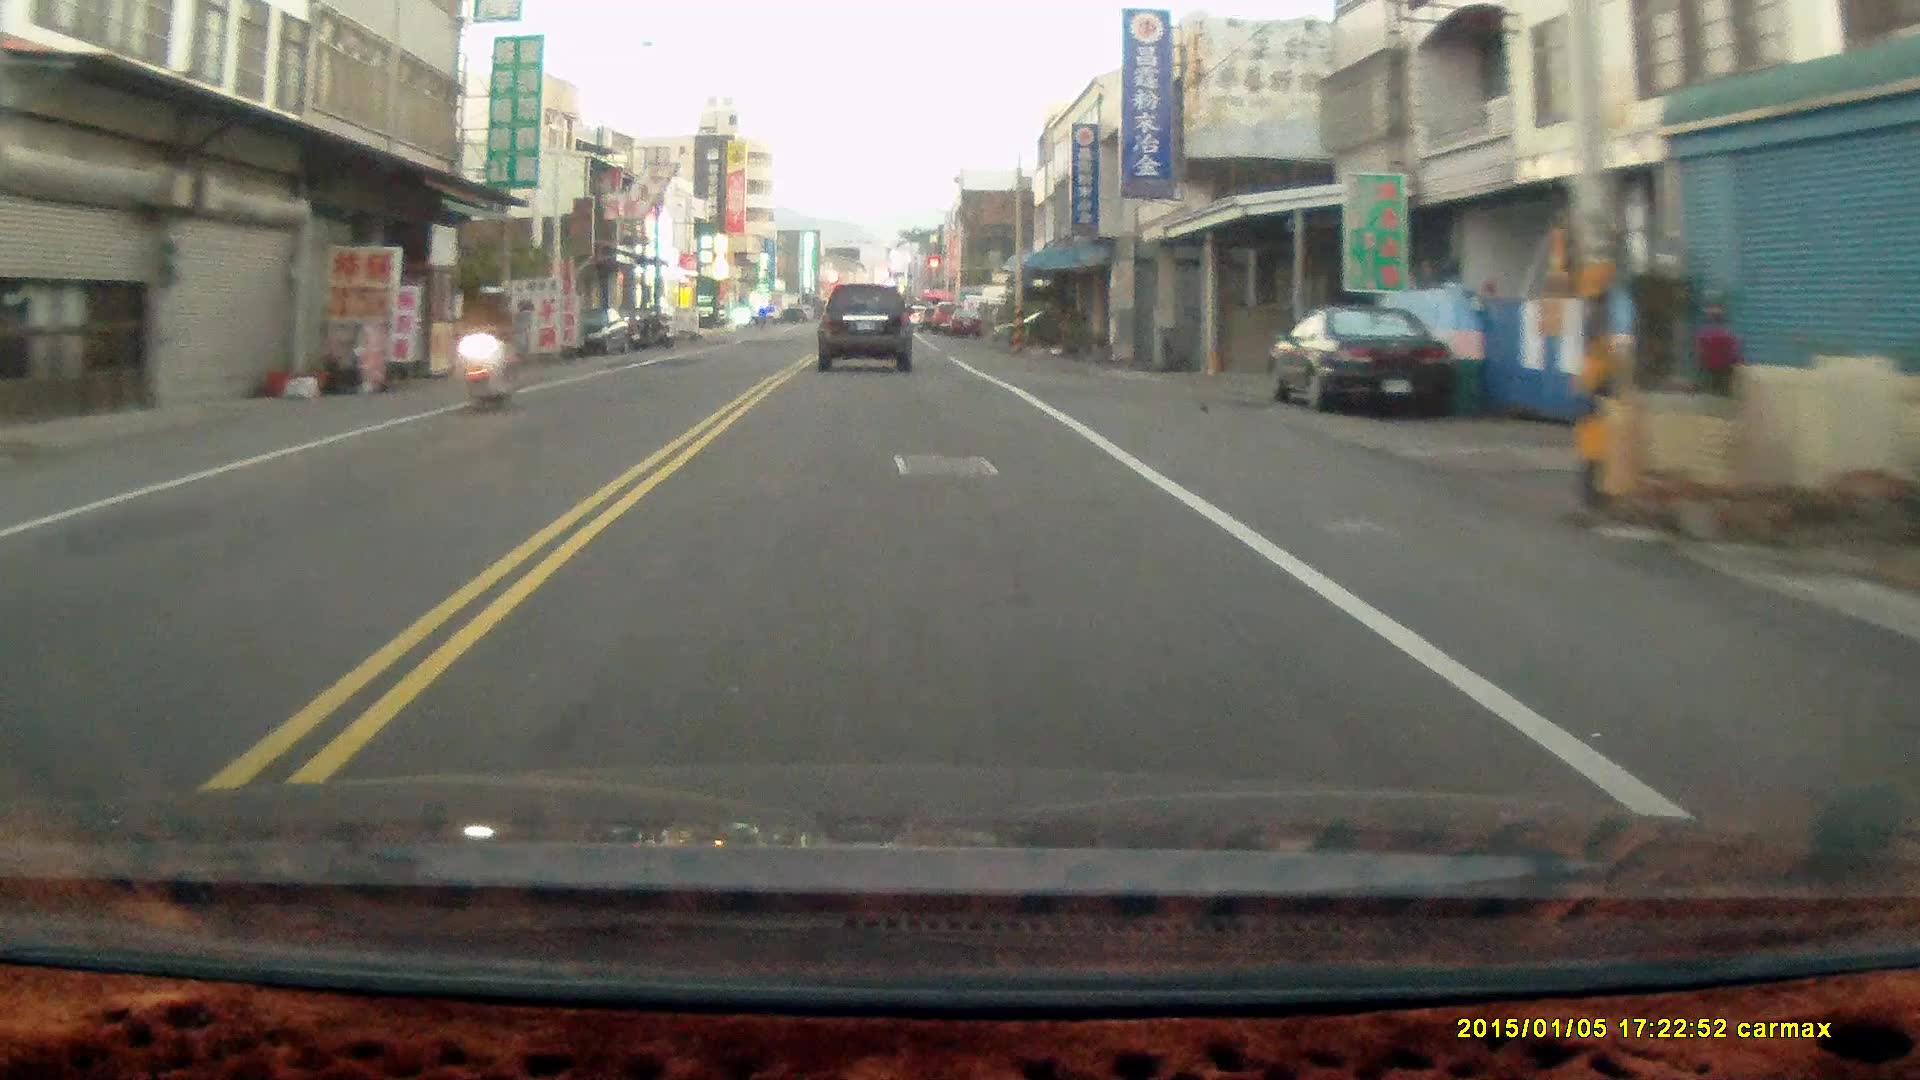rider: (449, 285, 515, 416)
vehicle: (1271, 306, 1465, 422), (817, 285, 915, 376)
